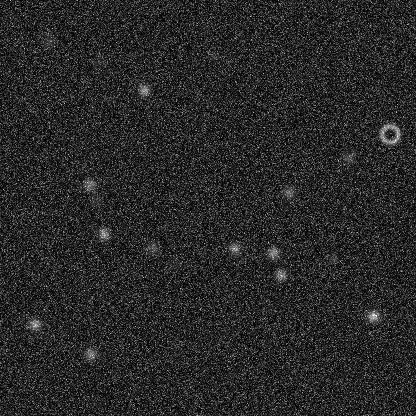Ring: (377, 121, 401, 145)
Spot: (26, 316, 42, 332), (264, 244, 280, 260), (365, 308, 381, 324), (82, 346, 98, 362), (168, 255, 184, 271), (340, 149, 356, 165), (206, 47, 222, 63), (89, 193, 105, 209), (324, 249, 340, 265), (272, 266, 288, 282), (136, 82, 152, 98), (81, 176, 97, 192), (92, 53, 108, 69), (95, 226, 111, 242), (226, 240, 242, 256), (41, 32, 57, 48), (280, 184, 296, 200), (144, 240, 160, 256)
